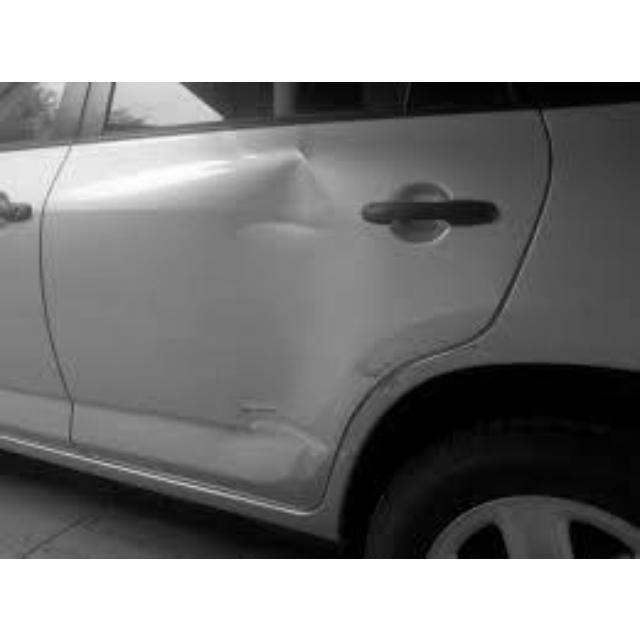doorouter-dent: (94, 133, 409, 485)
